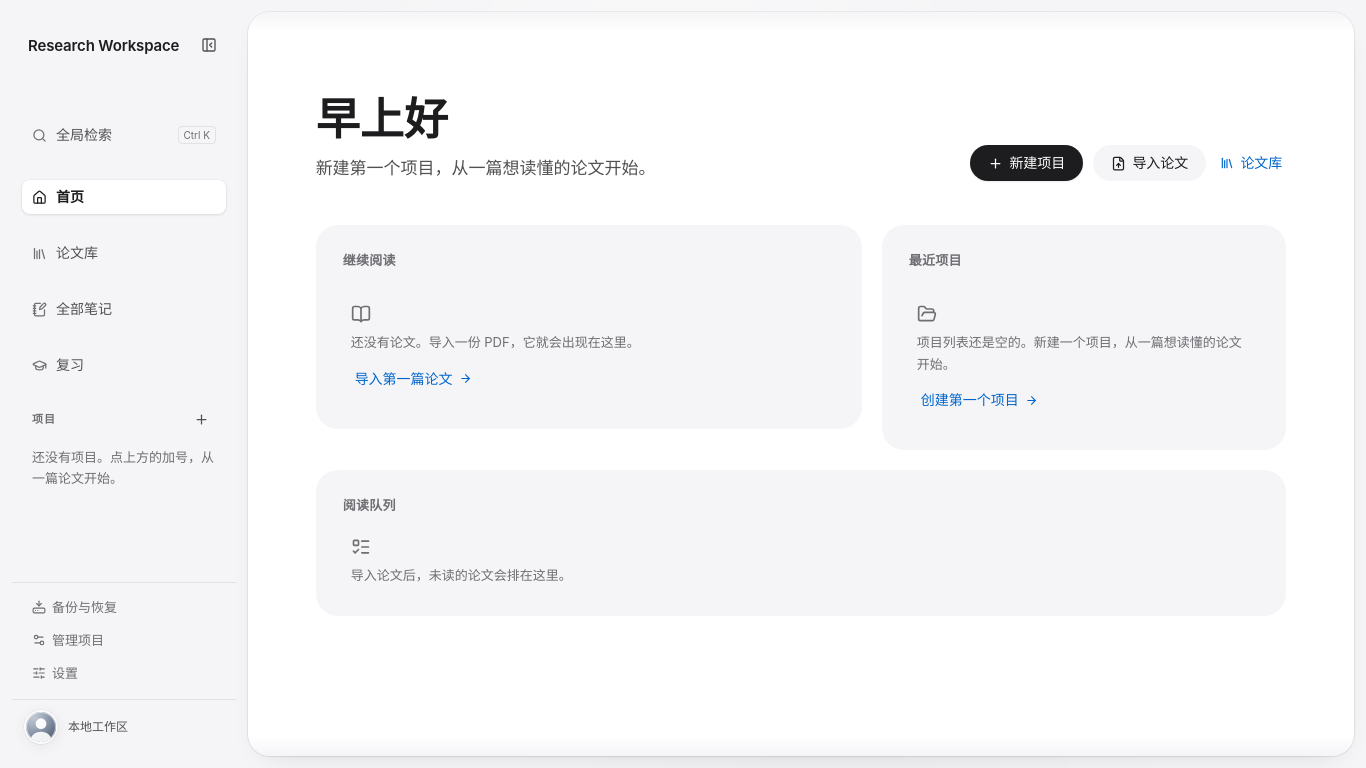
Scenario: creating projects › opens a focused dialog, creates the project and shows its page
The width and height of the screenshot is (1366, 768).
Click the button named "新建项目" at [201, 419], box [186,404,216,434]
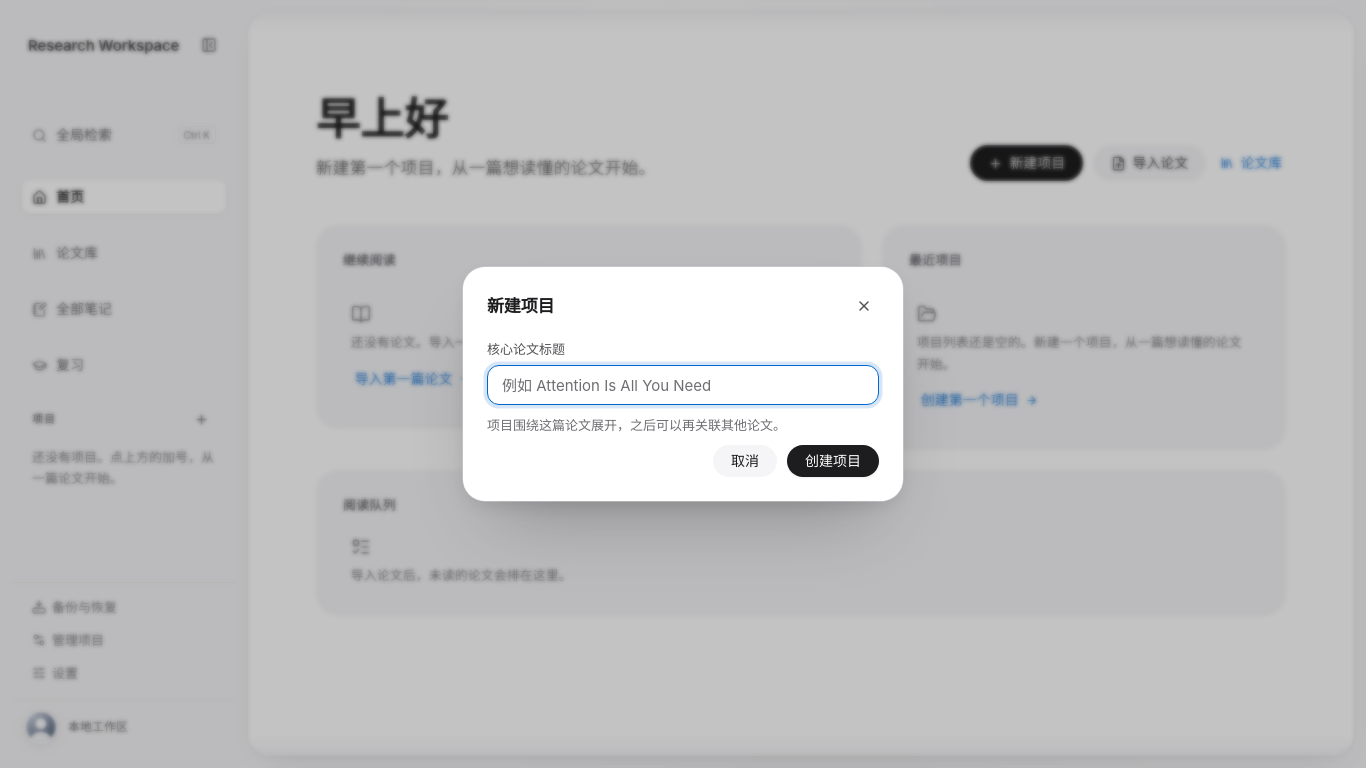
Type "  Attention Is All You Need " into the field labelled "核心论文标题" at [683, 385], box [487,365,879,405]
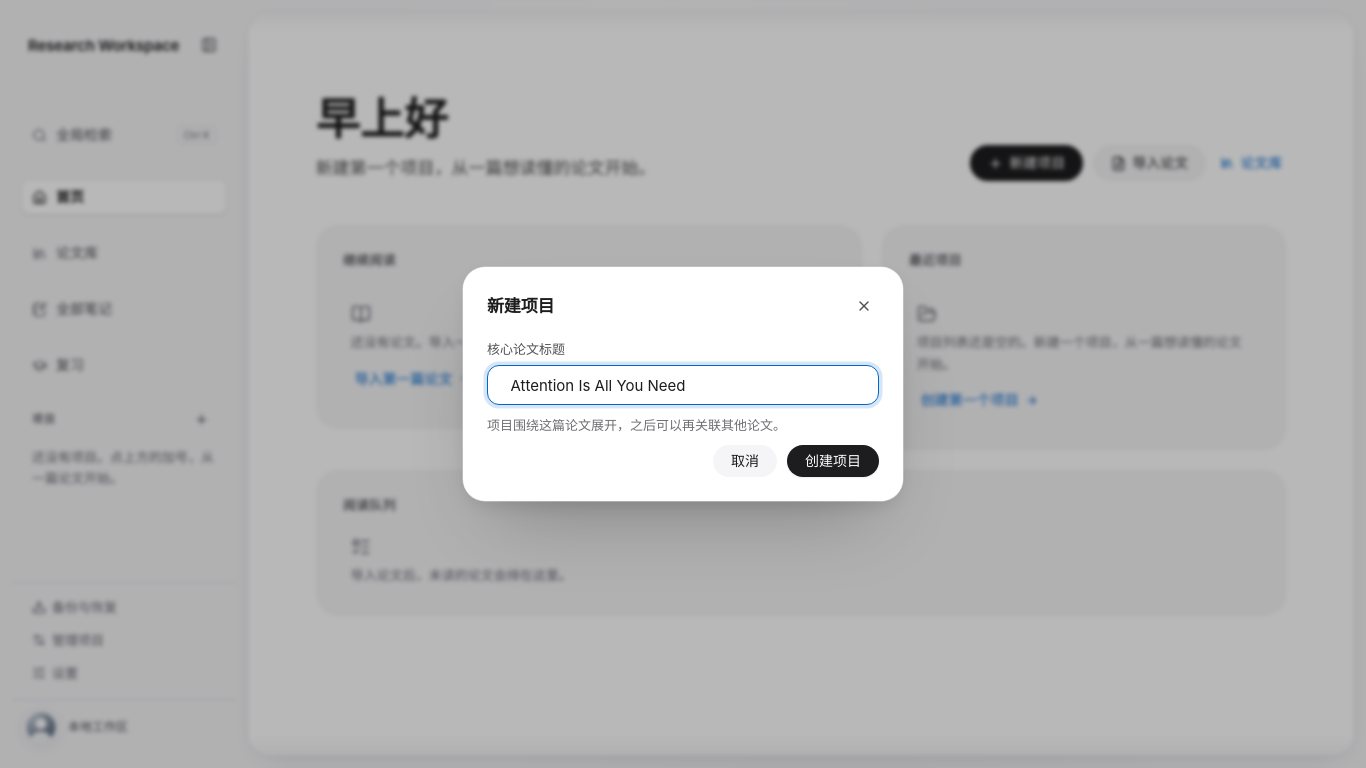
Click the button "创建项目" at [833, 461], box [787,445,879,477]
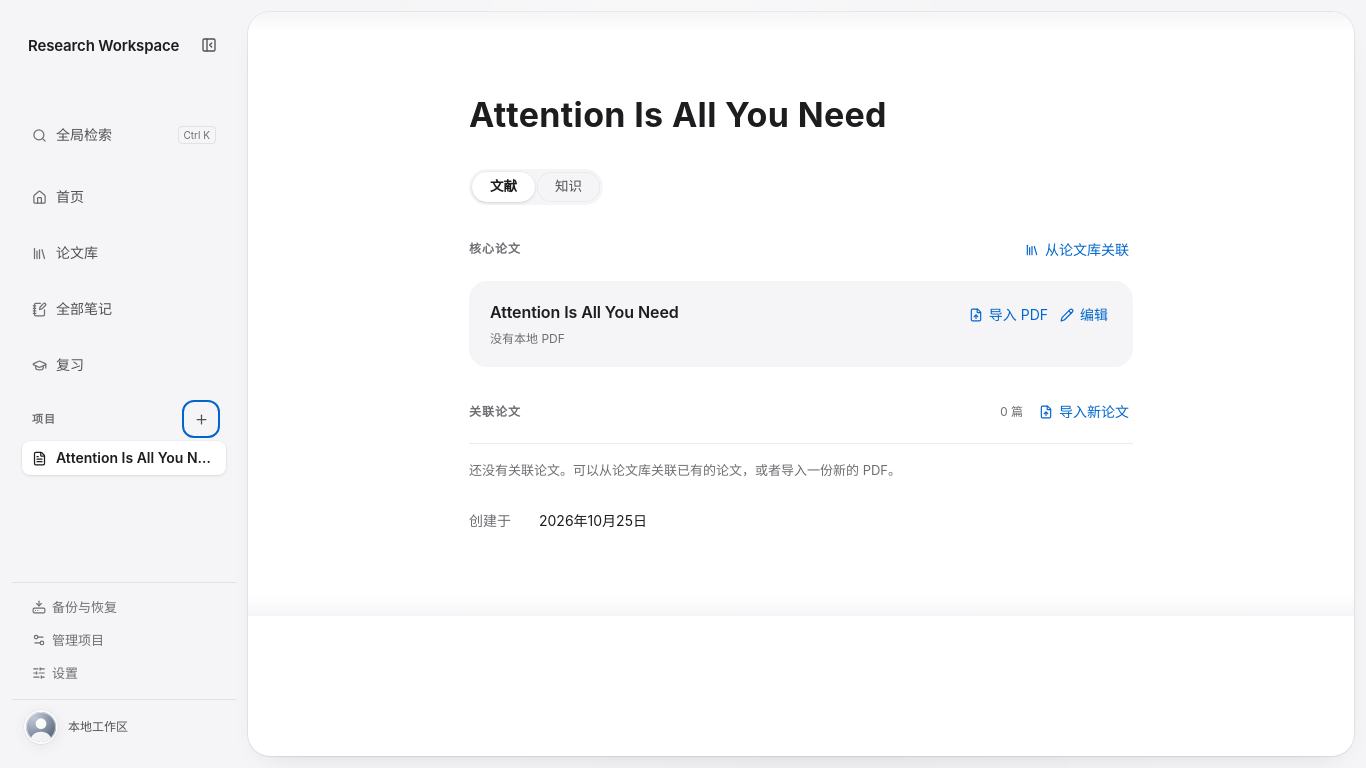
Result: the 1st heading "Attention Is All You Need" is shown at [469,94,887,135]
Result: the button "新建项目" is gone
